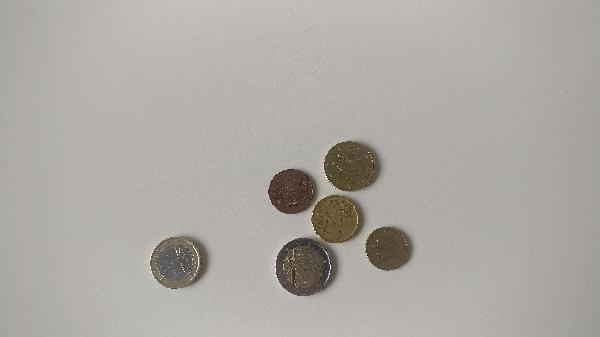Fifty Cent: (323, 140, 380, 191)
Five Cent: (266, 167, 316, 214)
One Euro: (150, 235, 202, 289)
Ten Cent: (365, 226, 413, 269)
Twenty Cent: (310, 194, 359, 243)
Two Euro: (276, 237, 334, 295)
